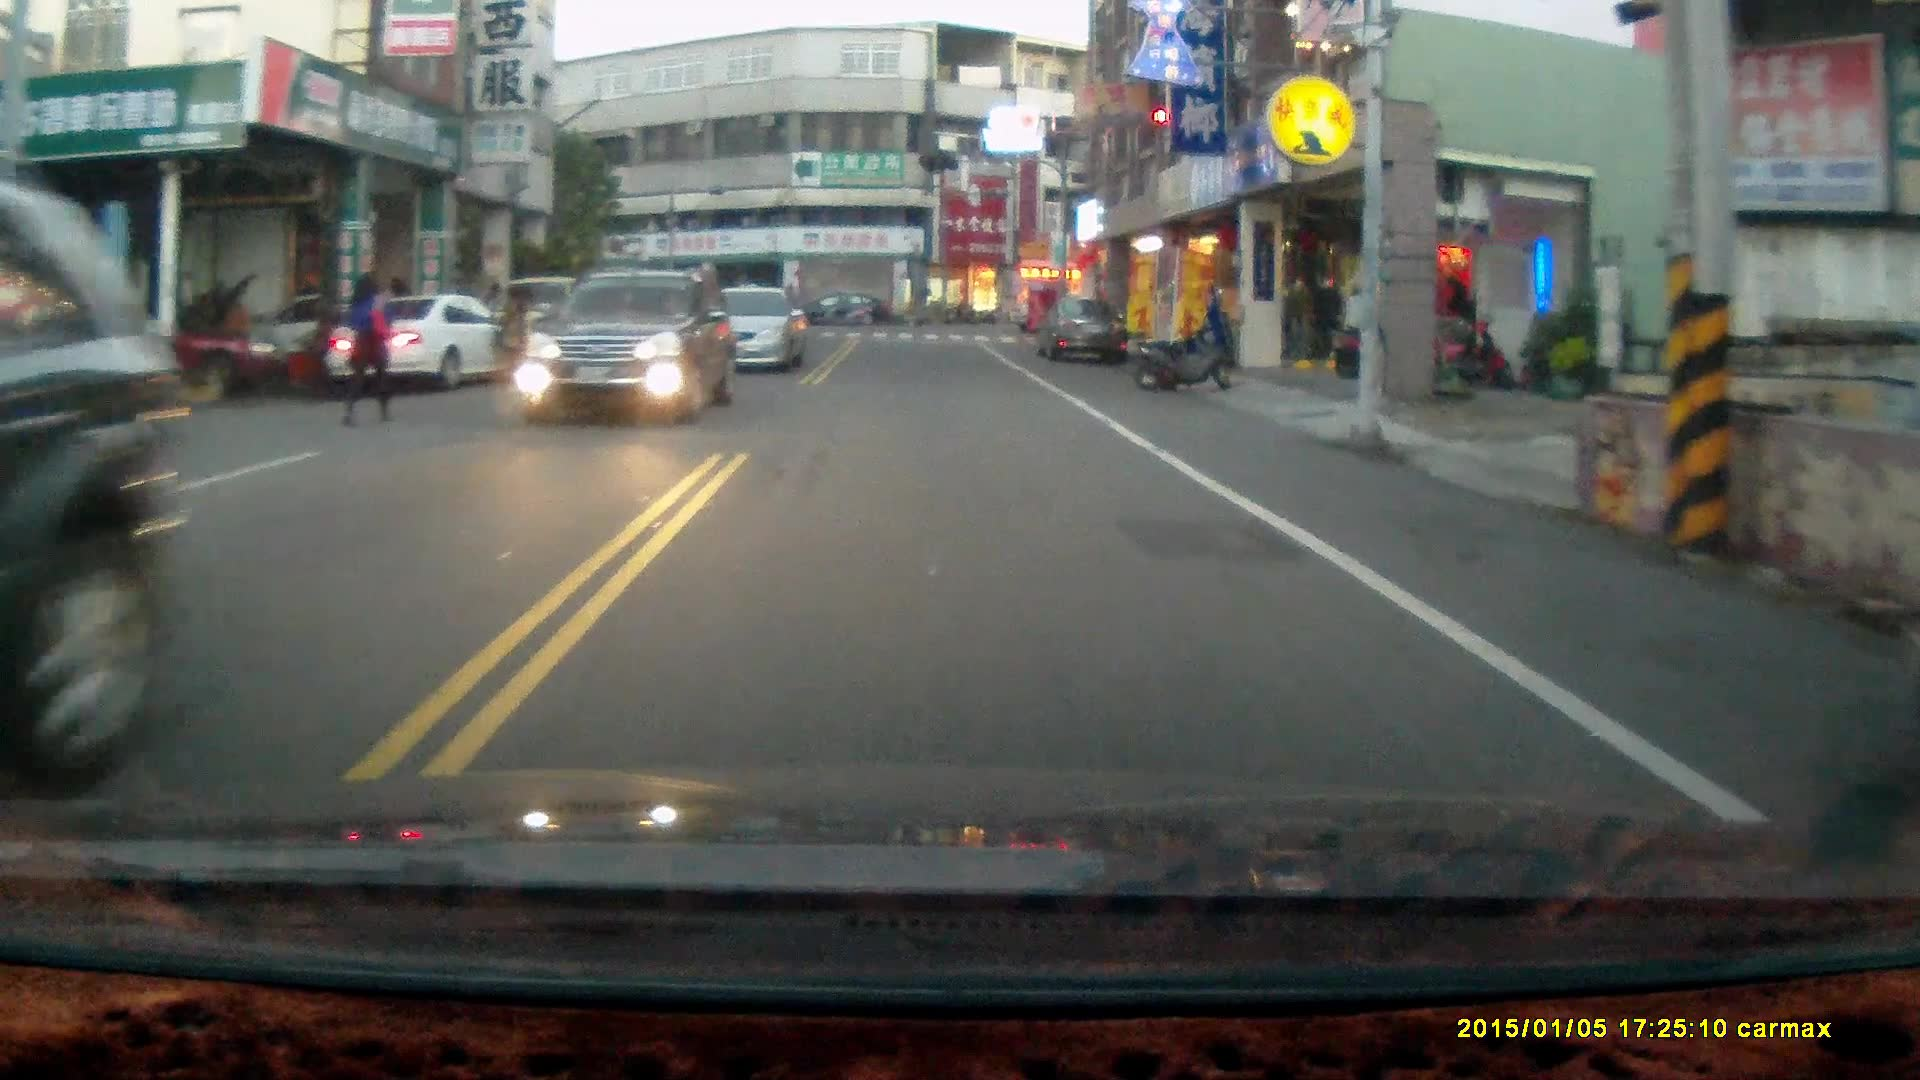pedestrian: (344, 266, 390, 426), (487, 279, 527, 383)
vehicle: (1, 188, 153, 829), (528, 264, 741, 423), (325, 290, 539, 393), (684, 280, 809, 371), (1039, 294, 1133, 368), (794, 290, 898, 330)
